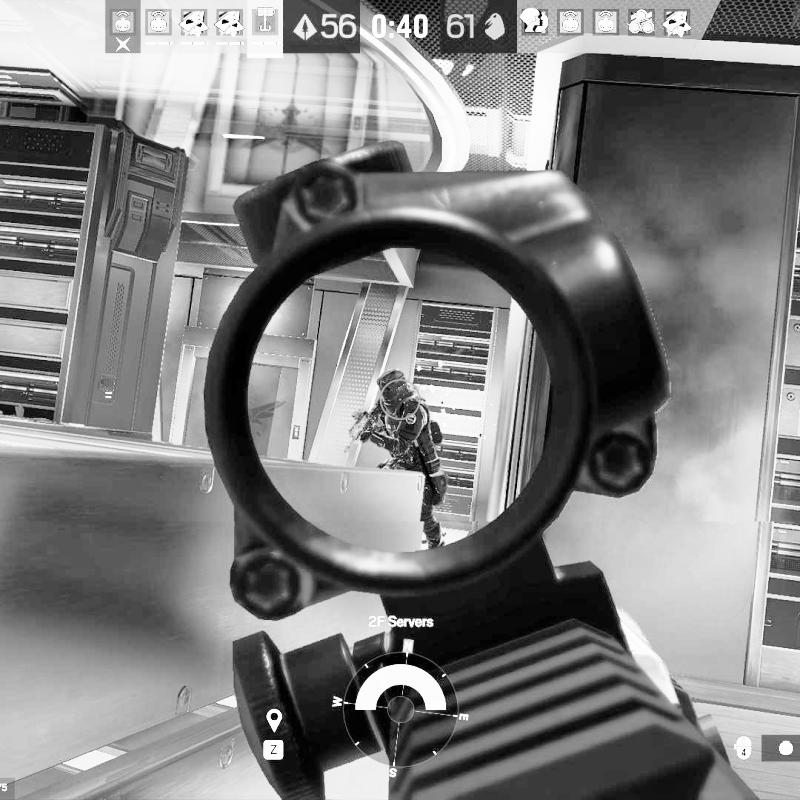Character: (343, 368, 450, 552)
Head: (376, 369, 408, 403)
